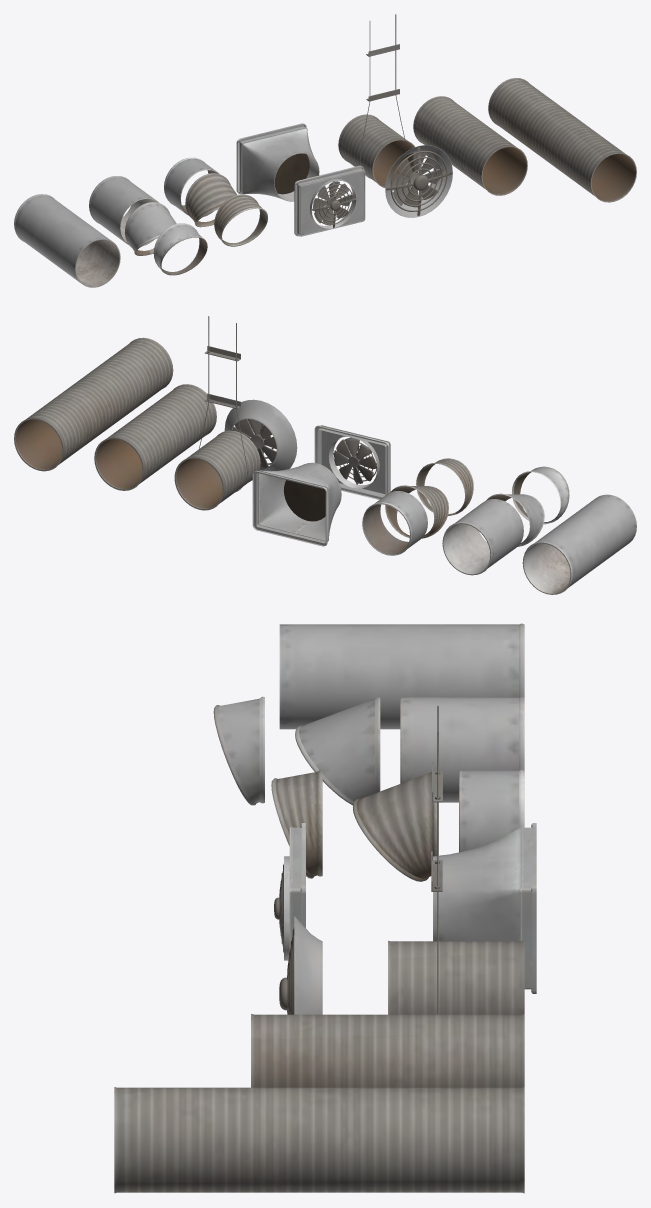
Rendered from ind_airduct.glb.
The picture shows the model from 3 angles, top to bottom: view 1: azimuth 30°, elevation 25°; view 2: azimuth 150°, elevation 25°; view 3: azimuth 270°, elevation 25°; orthographic projection. The views are drawn at different scales.
Parts seen in each view (by area): view 1: modular_airduct_rectangular_vent_fan; view 2: modular_airduct_rectangular_vent_fan; view 3: modular_airduct_rectangular_vent_fan.
Boxes of the visible parts, box(x1,y1,x2,y2) form: modular_airduct_rectangular_vent_fan: box(14, 14, 636, 287); modular_airduct_rectangular_vent_fan: box(14, 316, 636, 594); modular_airduct_rectangular_vent_fan: box(114, 623, 536, 1193).
Bounding box in the file's own units: 4.17 × 1.32 × 1.46.
1 material, 1 textured.
